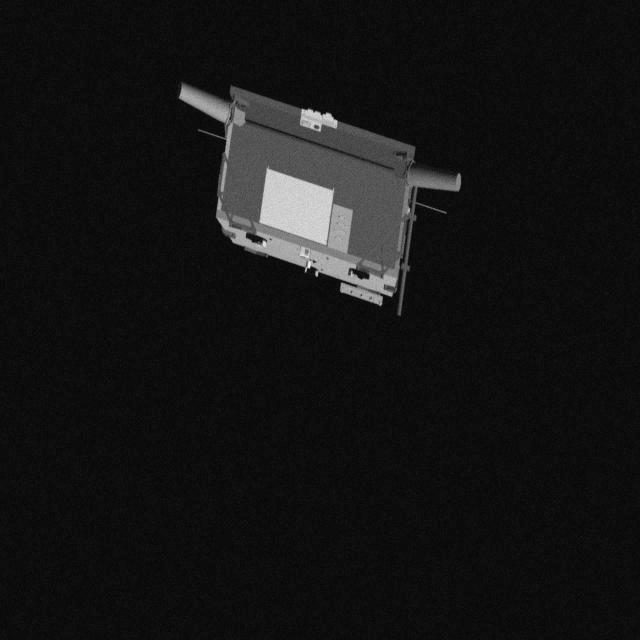medium_debris: (166, 80, 464, 320)
